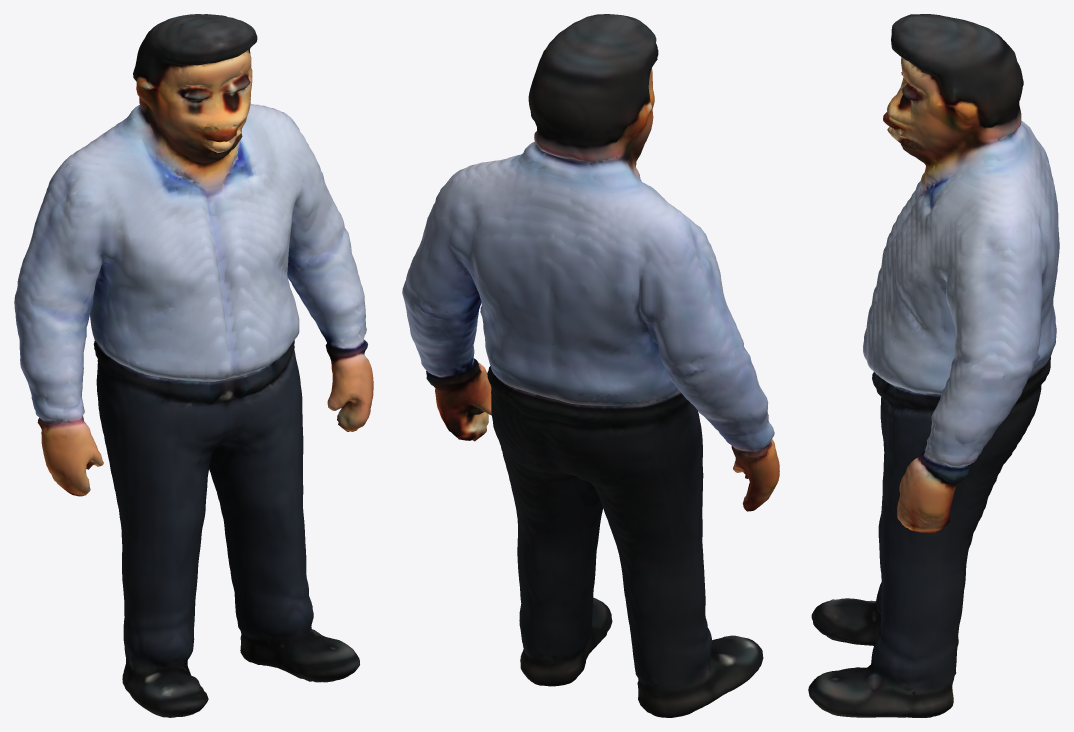
File: AbdullahEkinci_Unrigged.fbx
3 views of the same model, side by side, from view 1: azimuth 30°, elevation 25°; view 2: azimuth 150°, elevation 25°; view 3: azimuth 270°, elevation 25° (orthographic). The views are drawn at different scales.
Visible parts, largest first — view 1: mesh; view 2: mesh; view 3: mesh.
Part boxes in pixels (left/top/right/bottom): mesh: left=14, top=14, right=373, bottom=717; mesh: left=402, top=14, right=779, bottom=717; mesh: left=808, top=14, right=1059, bottom=717.
Size of the model in its own units: 96.98 by 180 by 62.03.
1 material, 1 textured.
